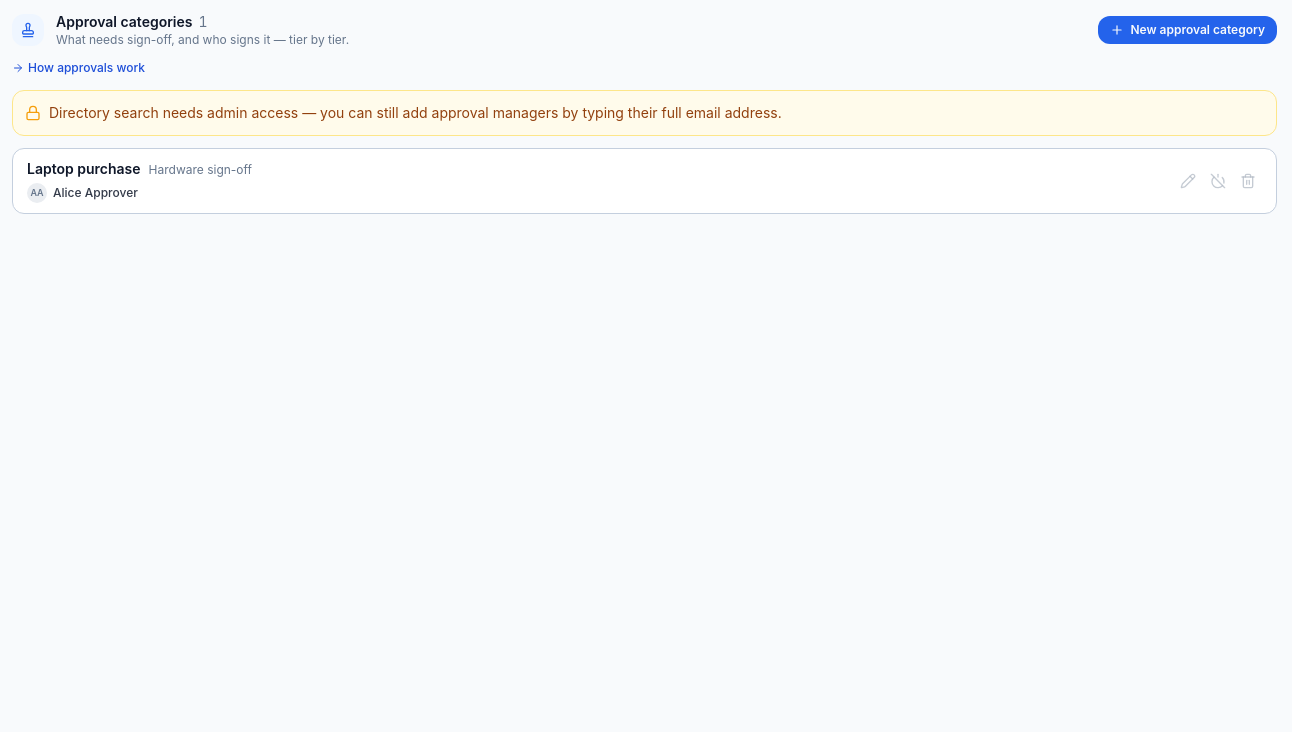
Test: approval managers — read-only and reviewer members are offered too (QA 09-15 #8) › a read-only member who is not a technician appears in the picker and can be added
This screenshot has width=1292, height=732.
Click the button "New approval category".
click(1188, 30)  # box [1098,16,1277,44]
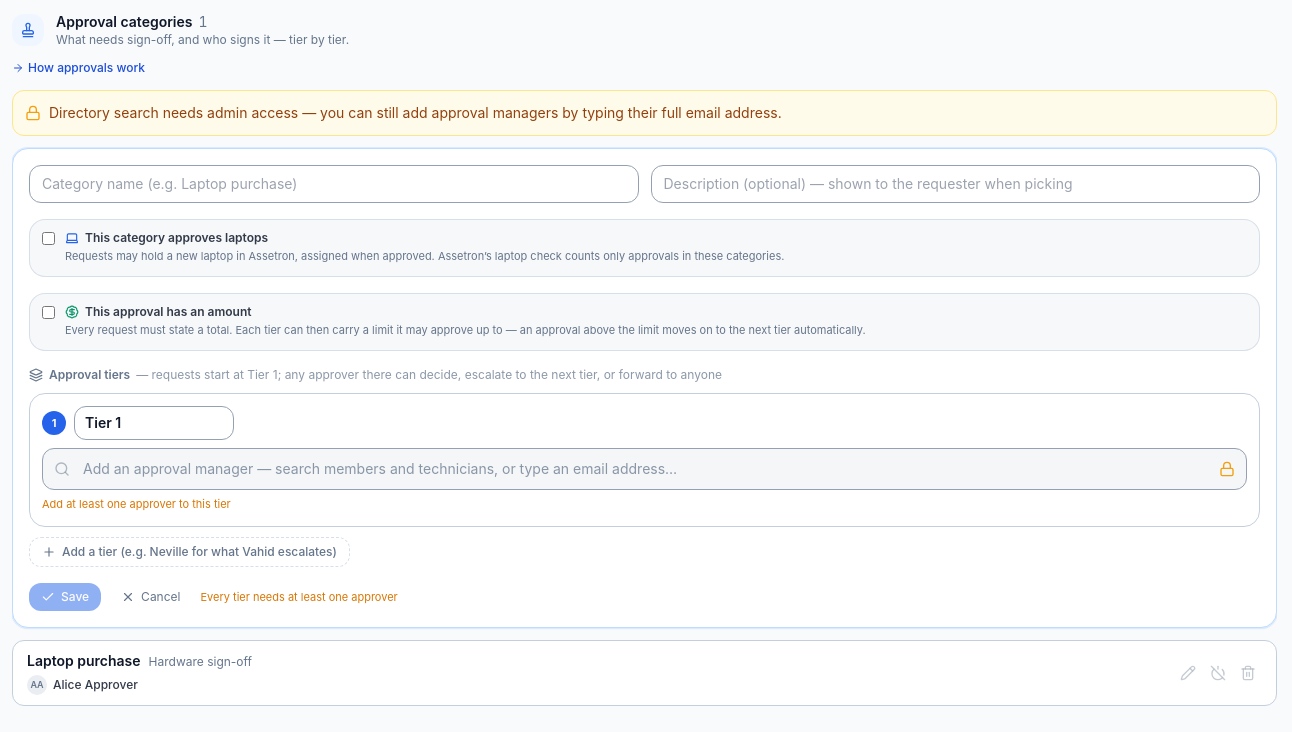
Replace the text in the field with placeholder "type an email address" with "nev" at (644, 469), box [42,448,1247,490]
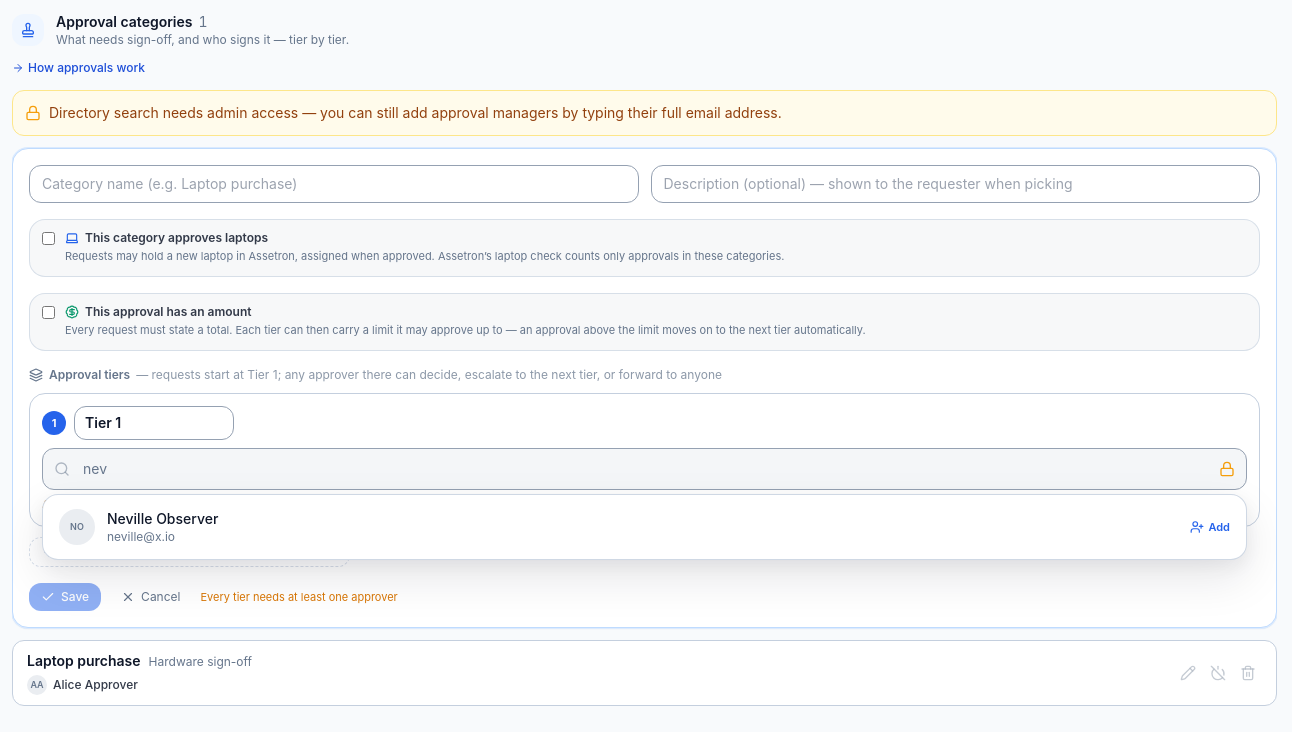
Click the text "Neville Observer".
click(163, 518)  # box [107,510,218,527]
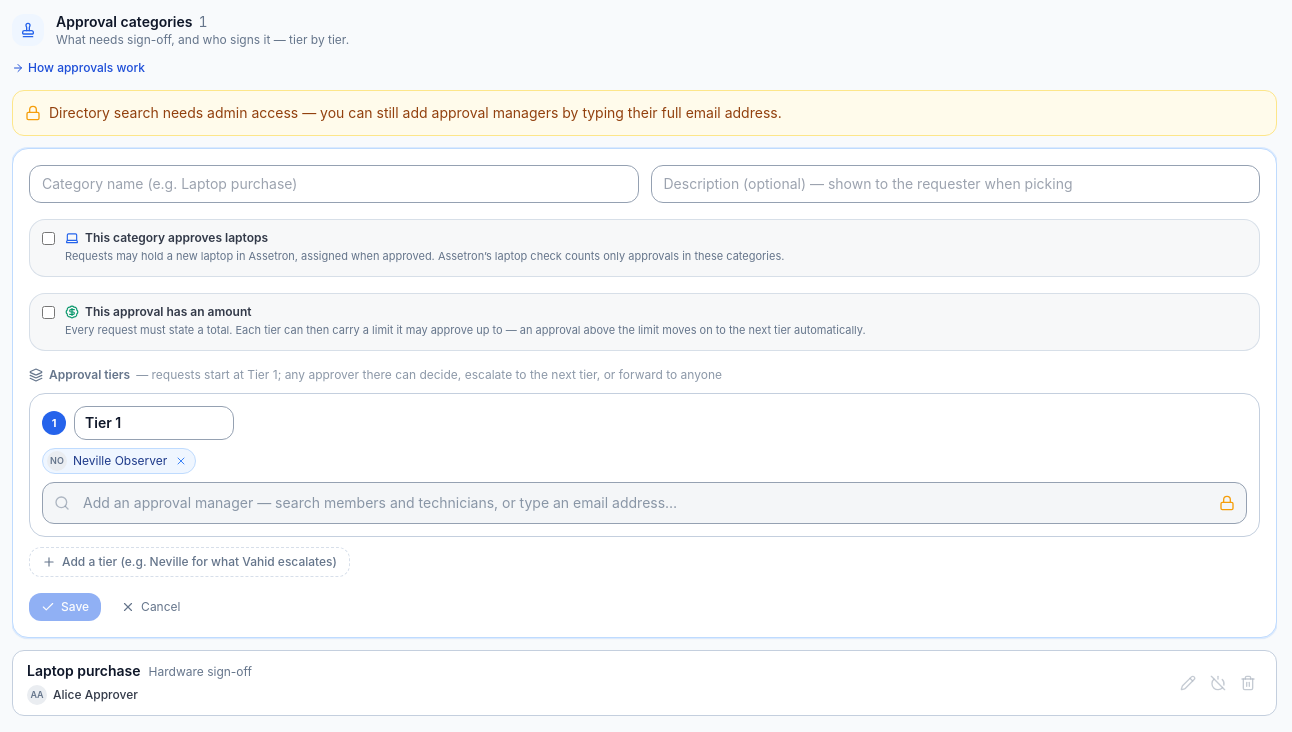
Now the button named "Remove neville@x.io" is shown, box [173,453,189,469]
